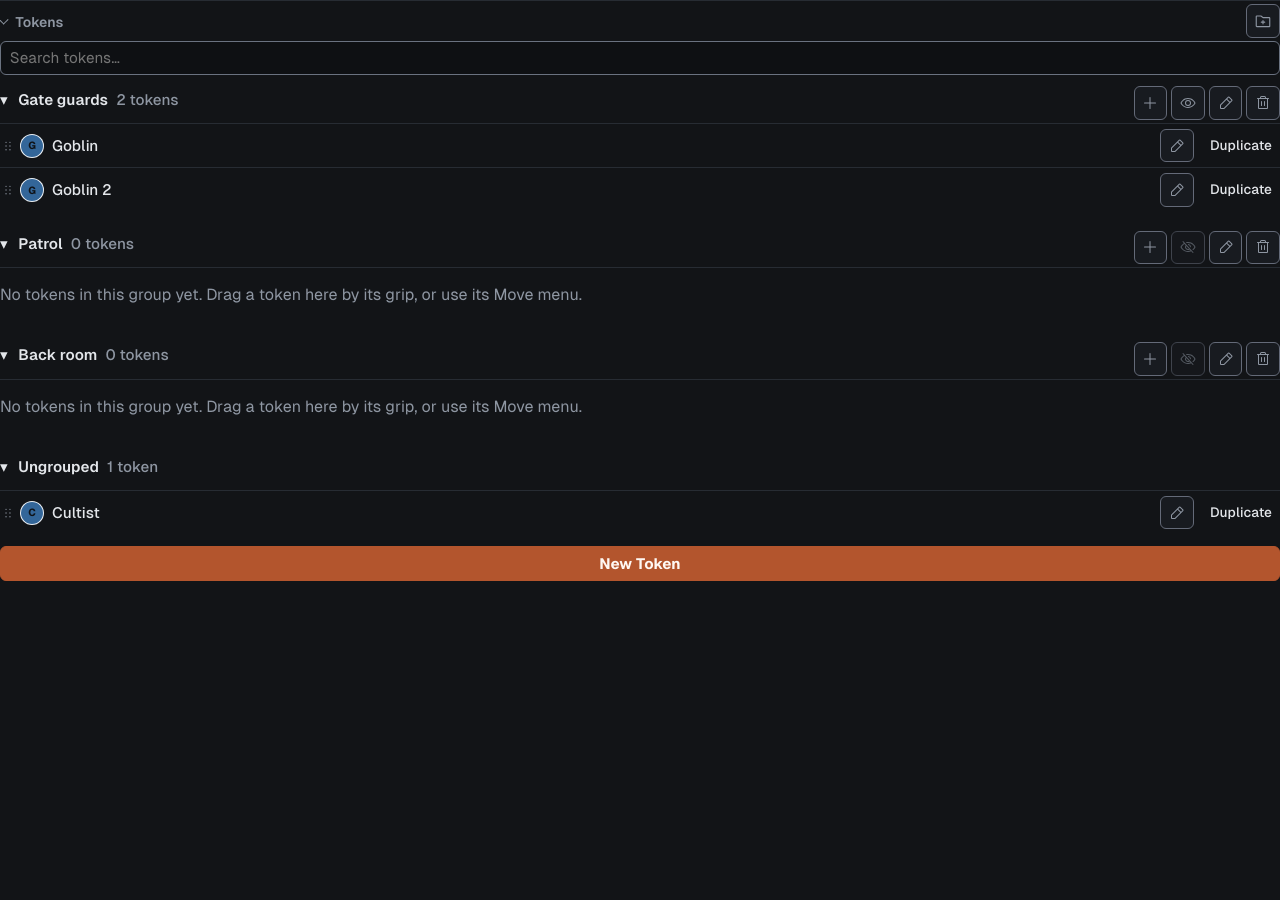
it: moving a token between groups from the roster (FR-GM-08, KAN-82) › sends one group.assign for the token and closes the menu
Click the button named "Move Goblin 2 to group".
click(8, 190)  # box [0,173,16,207]
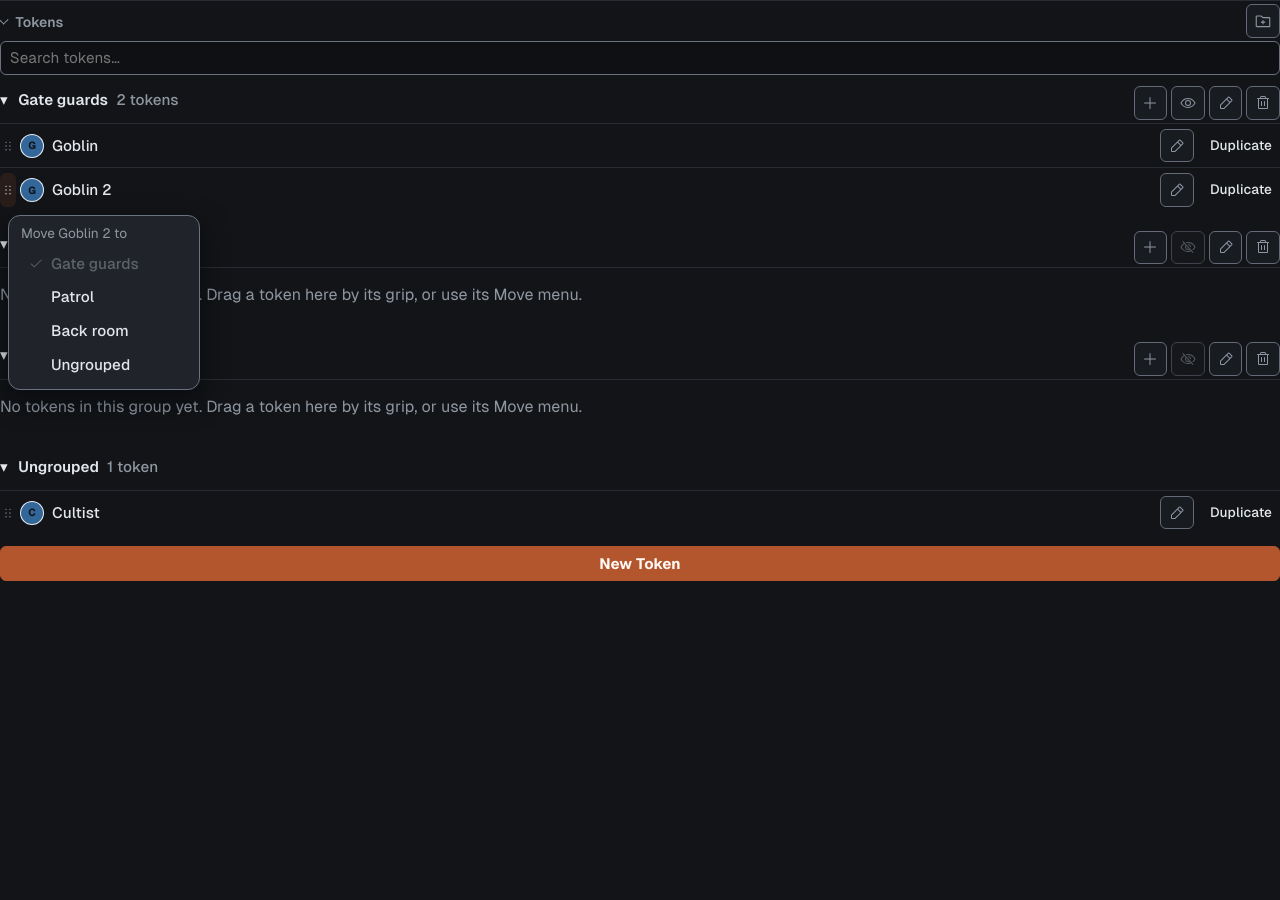
Click the button "Patrol".
click(104, 297)  # box [21,280,187,314]
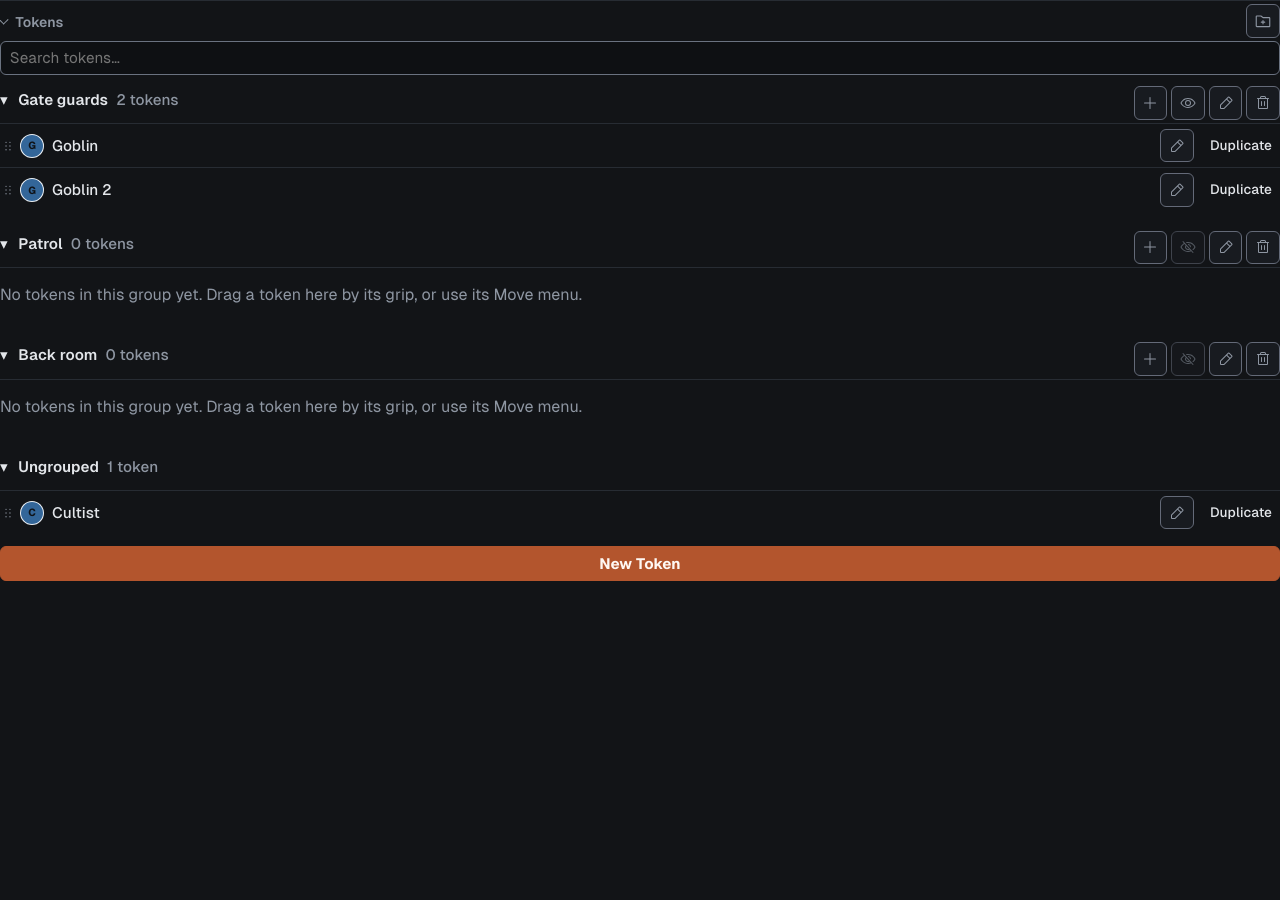
Check: the text "Move Goblin 2 to" is gone
